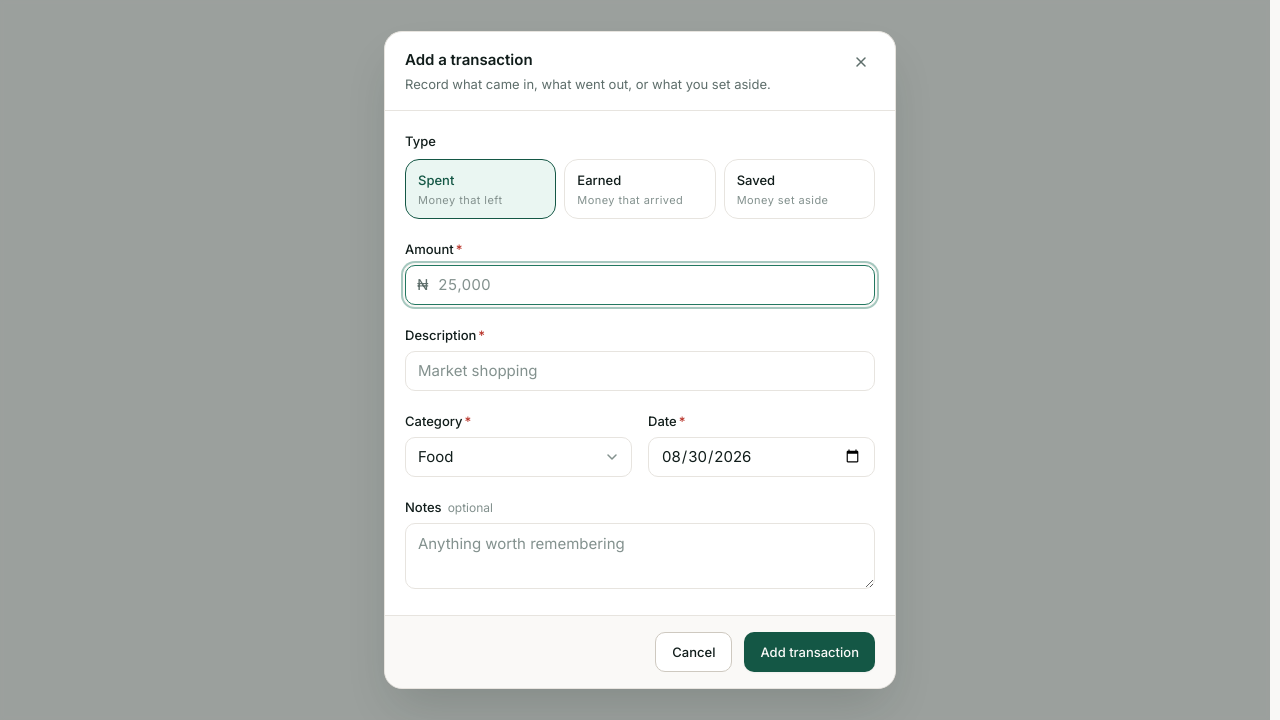
Scenario: TransactionFormModal › refuses an empty description
Type "25000" into the field labelled "Amount*". click: coordinates (640, 285)
box: [405,265,875,305]
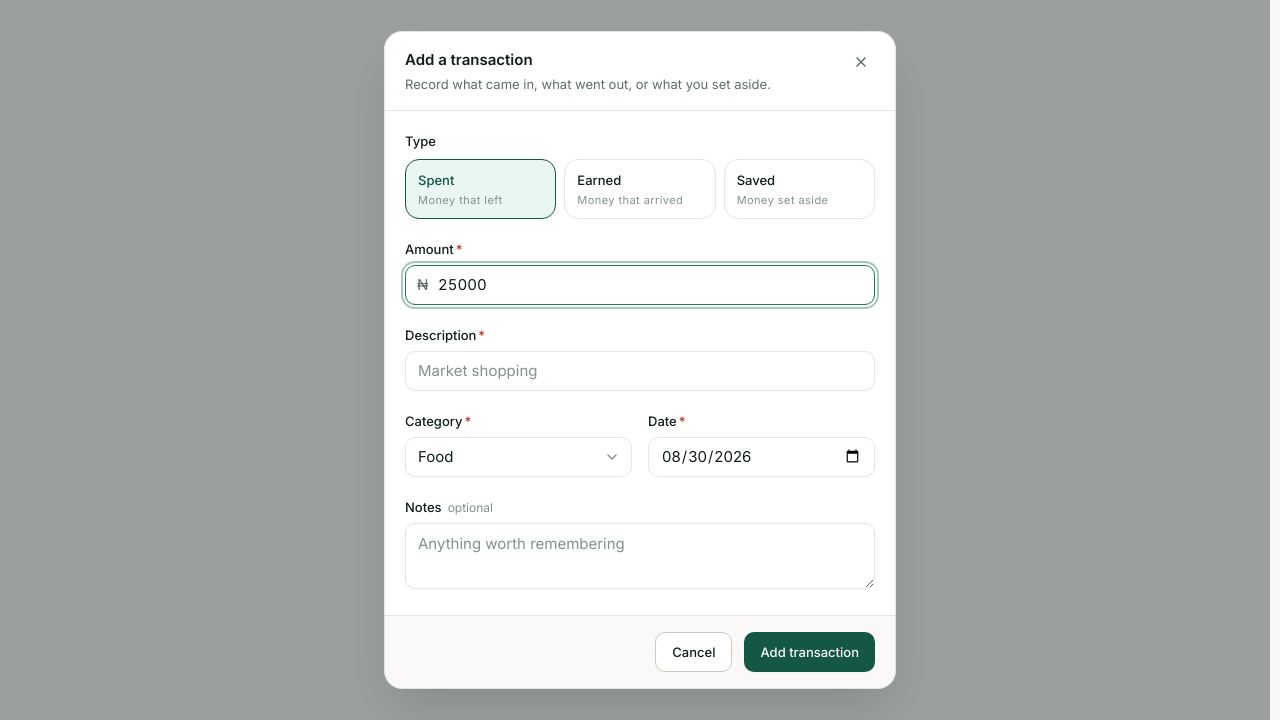
Click the button "Add transaction". click: coordinates (810, 652)
box: [744,632,875,672]
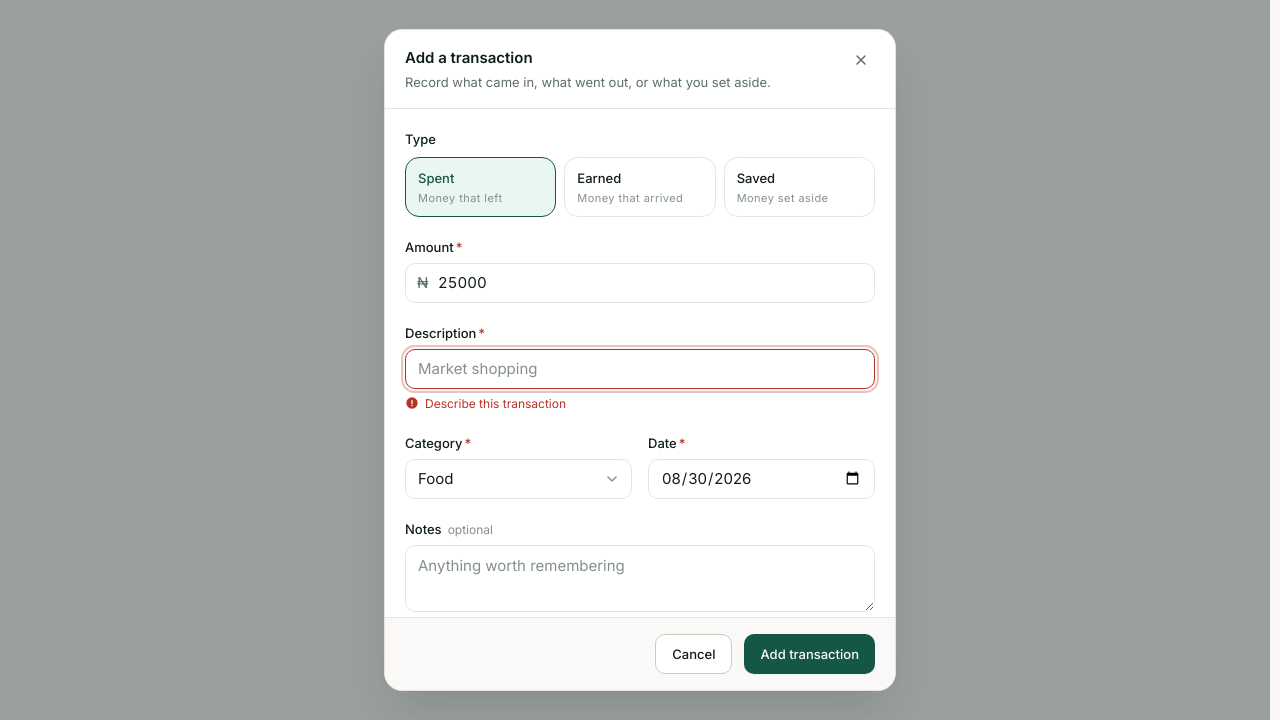
expect the text "Describe this transaction" is shown: met, box [405,396,566,411]
